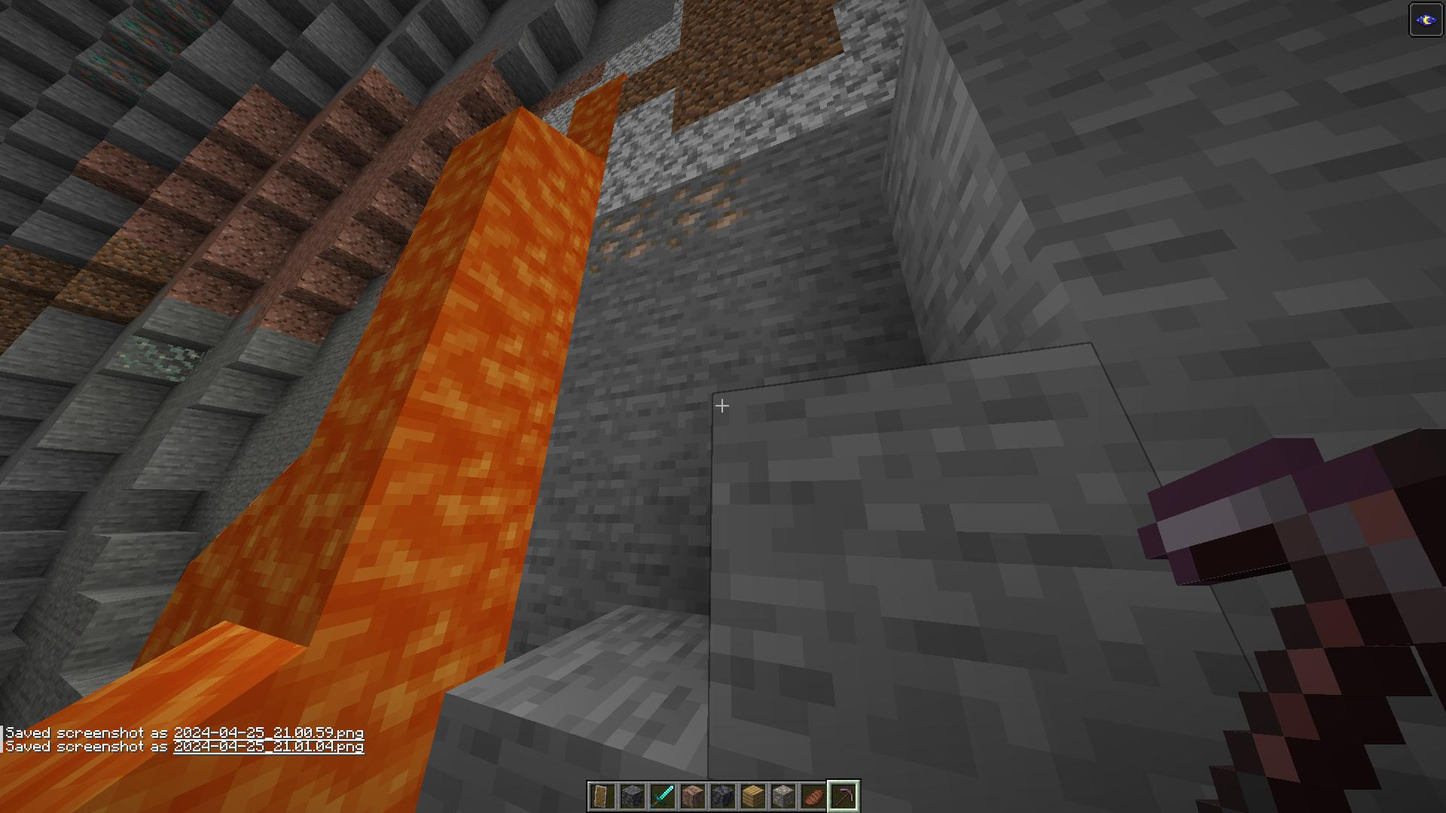iron ore: (661, 162, 747, 238), (583, 198, 655, 270)
